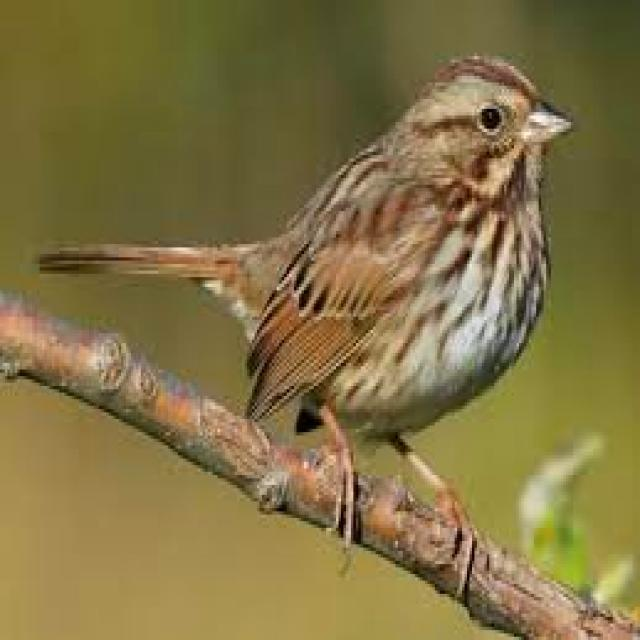sparrow: (40, 56, 571, 594)
